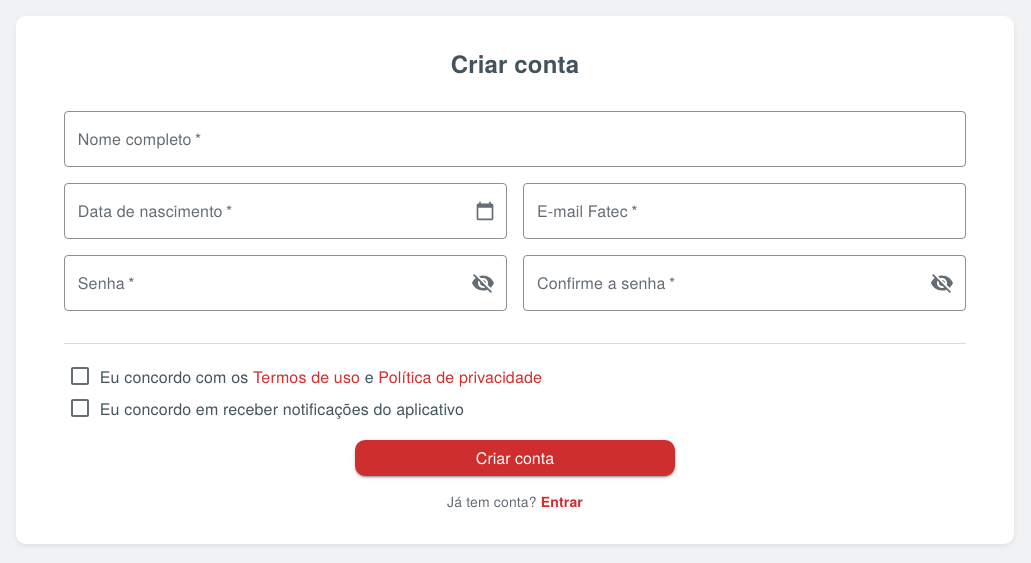
Signup › should disable the form while the account is being created
Type "Maria Silva" into the field labelled "Nome completo *" at (515,139), box [64,111,966,167]
Type "maria.silva@aluno.cps.sp.gov.br" into the field labelled "E-mail Fatec *" at (745,211), box [523,183,966,239]
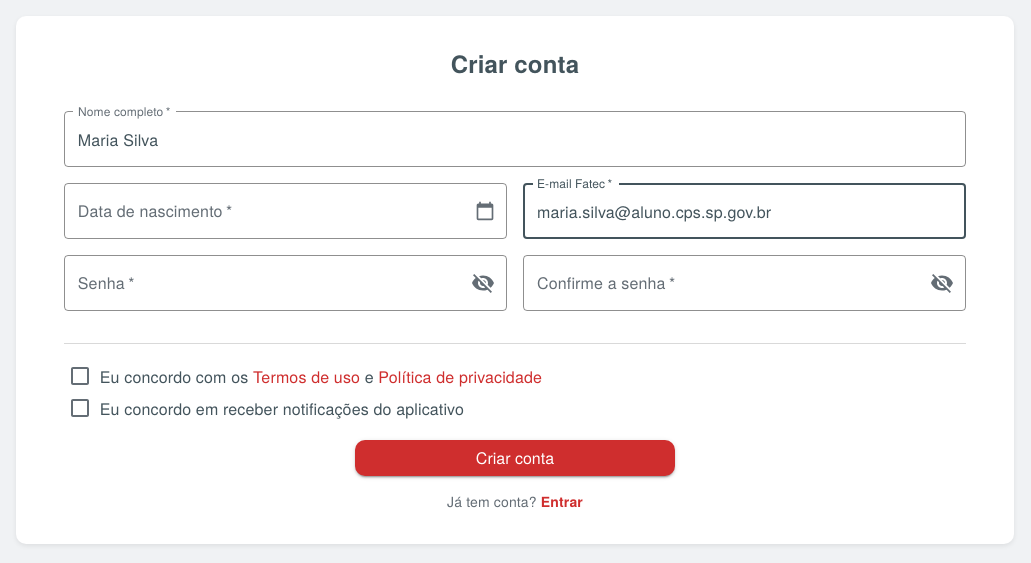
Type "22051999" into the field labelled "Data de nascimento *" at (261,211), box [64,183,459,239]
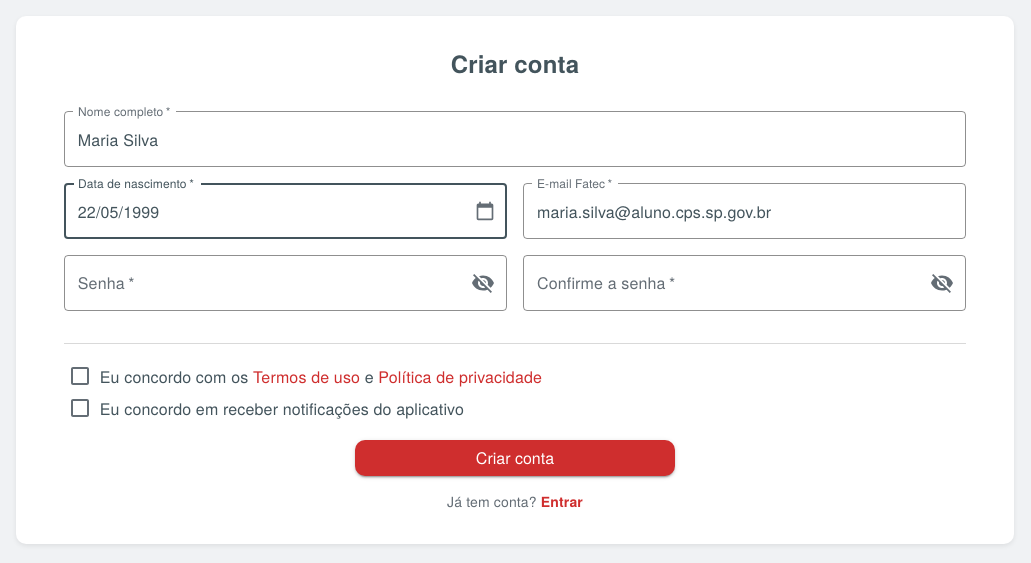
Type "segredo123" into the password field labelled "Senha *" at (259,283), box [64,255,455,311]
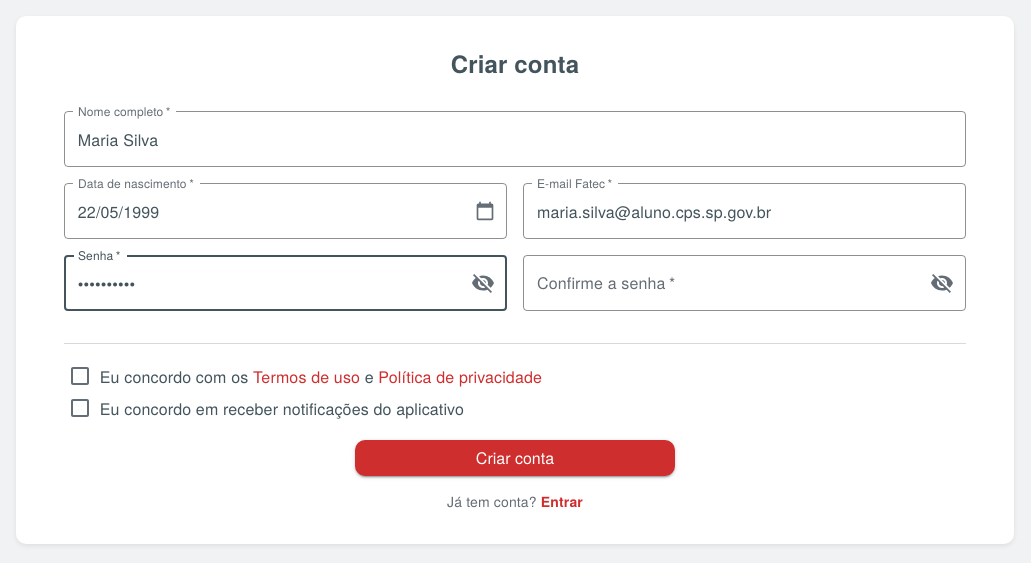
Type "segredo123" into the password field labelled "Confirme a senha *" at (719,283), box [523,255,914,311]
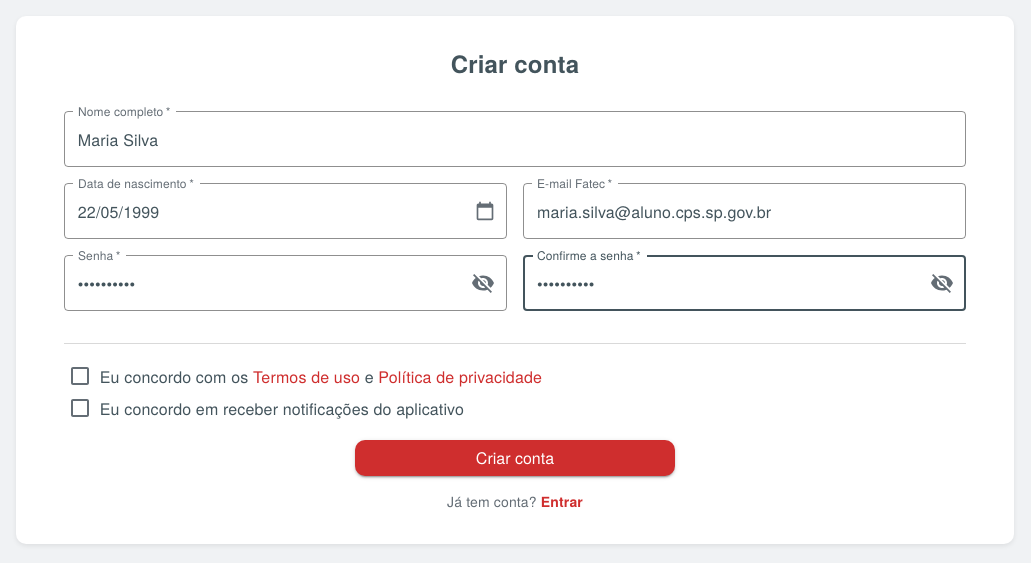
Click the checkbox named "Termos de uso" at (174,376), box [100,365,253,388]
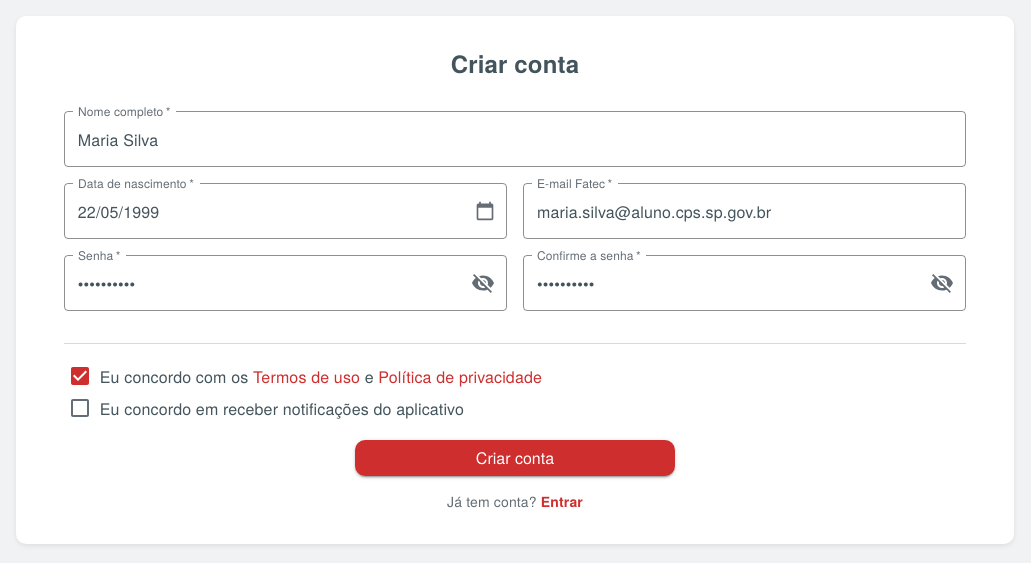
Click the button "Criar conta" at (515,458), box [355,440,675,476]
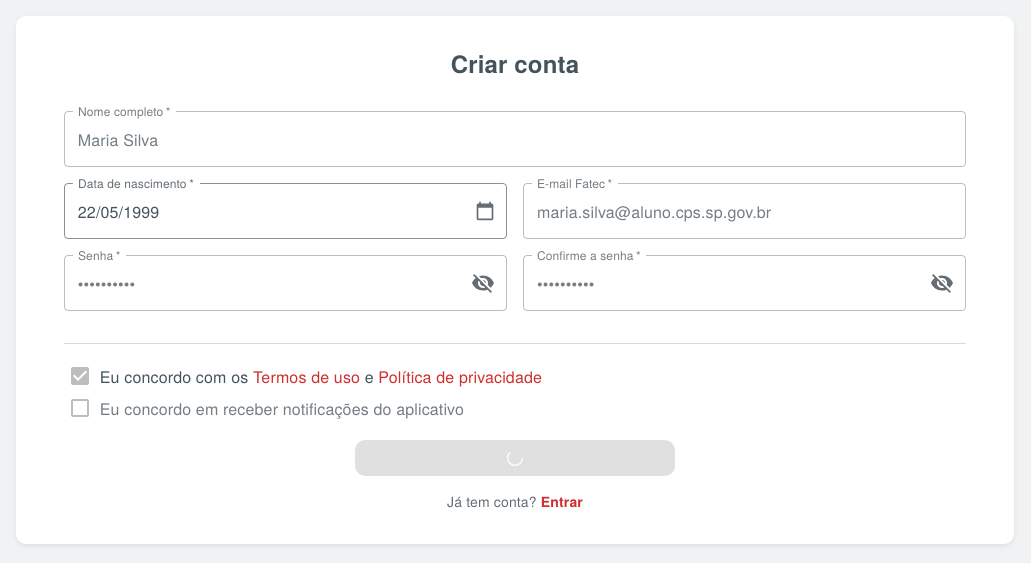
Check: the button "Criar conta" is disabled, box [355,440,675,476]
Check: the progress indicator is shown, box [507,450,523,466]
Check: the field labelled "Nome completo *" is disabled, box [64,111,966,167]
